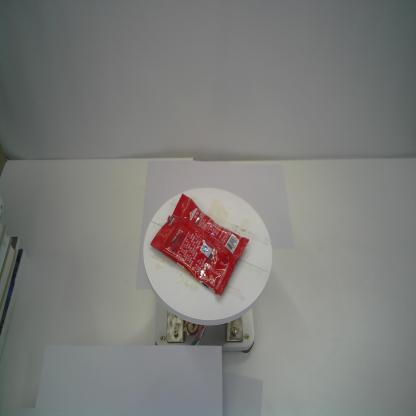Instant Drink: (149, 192, 250, 296)
